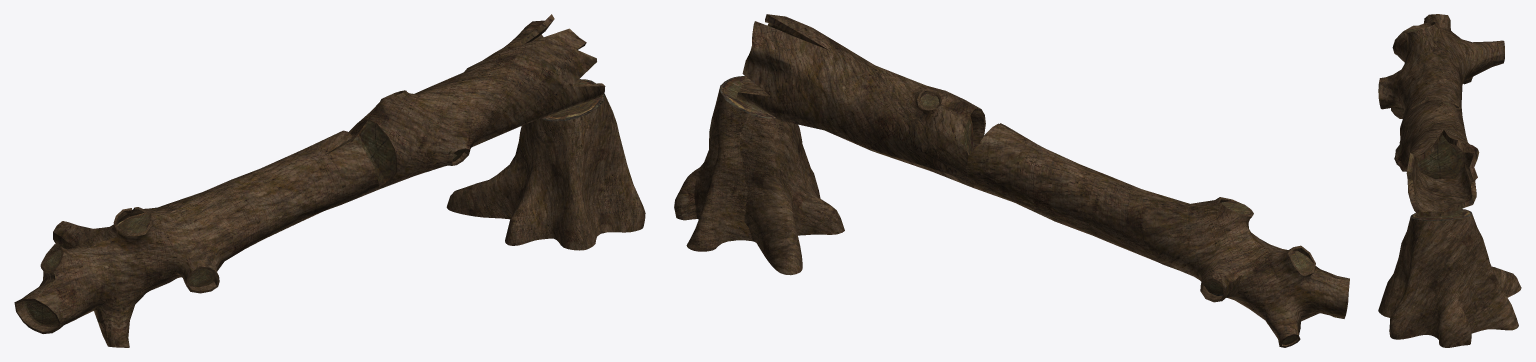
Rendered from fallenLog.obj.
3 renders of one model, left to right at view 1: azimuth 30°, elevation 25°; view 2: azimuth 150°, elevation 25°; view 3: azimuth 270°, elevation 25°, orthographic. The views are drawn at different scales.
Visible parts, largest first — view 1: LOG_01, LOG_, LOG_03, LOG_02; view 2: LOG_01, LOG_, LOG_03, LOG_02; view 3: LOG_01, LOG_, LOG_03, LOG_02.
Part boxes in pixels (bbox=[...]): LOG_01: bbox=[14, 14, 605, 347]; LOG_: bbox=[446, 94, 645, 250]; LOG_03: bbox=[24, 121, 465, 327]; LOG_02: bbox=[542, 79, 604, 121]; LOG_01: bbox=[737, 14, 1349, 347]; LOG_: bbox=[674, 86, 844, 275]; LOG_03: bbox=[920, 93, 1313, 344]; LOG_02: bbox=[720, 75, 776, 118]; LOG_01: bbox=[1378, 14, 1504, 216]; LOG_: bbox=[1378, 213, 1521, 347]; LOG_03: bbox=[1396, 28, 1464, 178]; LOG_02: bbox=[1410, 209, 1471, 220].
Bounding box in the file's own units: 148 × 45.21 × 33.41.
4 materials, 4 textured.
